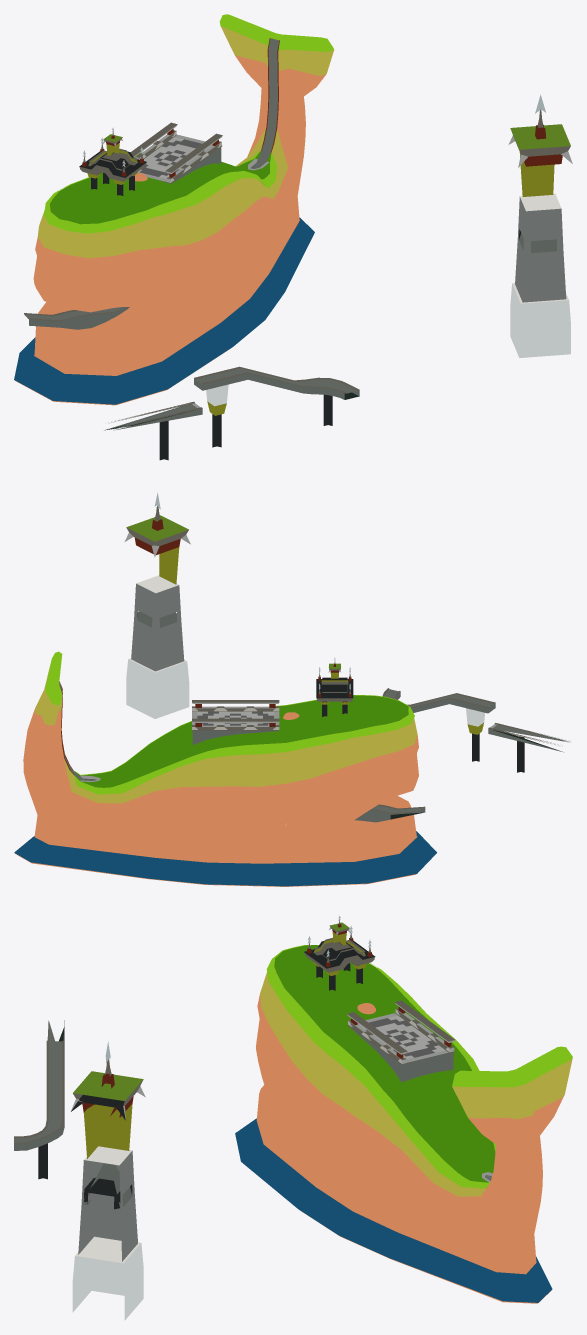
The model's file is Chunk8.obj.
The picture shows the model from 3 angles, top to bottom: view 1: azimuth 30°, elevation 25°; view 2: azimuth 150°, elevation 25°; view 3: azimuth 270°, elevation 25°; orthographic projection. The views are drawn at different scales.
Bounding box in the file's own units: 4302 × 2241 × 4036.
